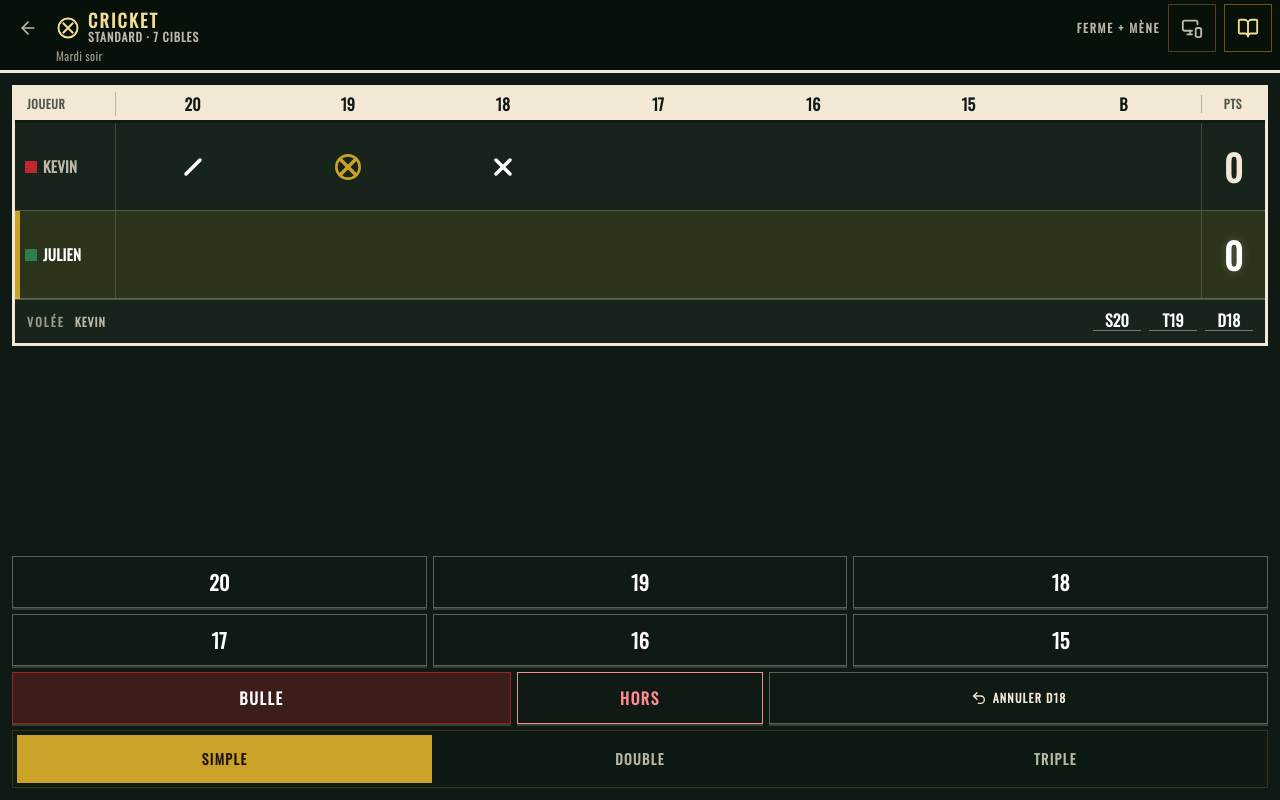
it: Cricket — la ligne VOLÉE : annulation, rejeu, joueur supprimé › annuler la 1ʳᵉ fléchette d’une volée : la ligne redonne la volée du joueur précédent
The width and height of the screenshot is (1280, 800).
Expected: the element named "Volée de Kevin" is shown, top-left (1093, 312), bottom-right (1253, 331)
What coordinates should you click on to do the following:
click the button "17"
I would click on:
 (219, 640)
Its box is top-left (12, 614), bottom-right (427, 666).
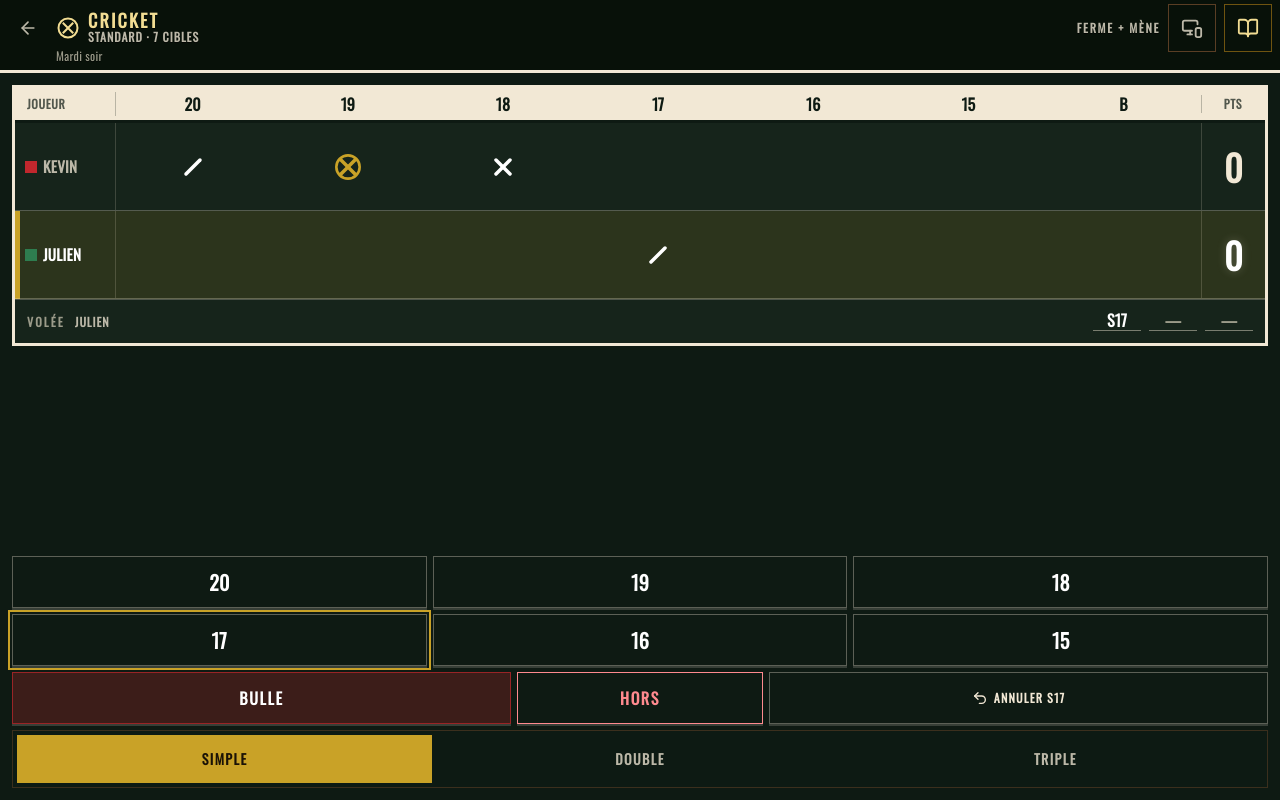
Expected: the element named "Volée de Julien" reads "S17 — —", top-left (1093, 312), bottom-right (1253, 331)
What coordinates should you click on to do the following:
click the button "Annuler S17"
I would click on:
 (1019, 698)
Its box is top-left (769, 672), bottom-right (1268, 724).
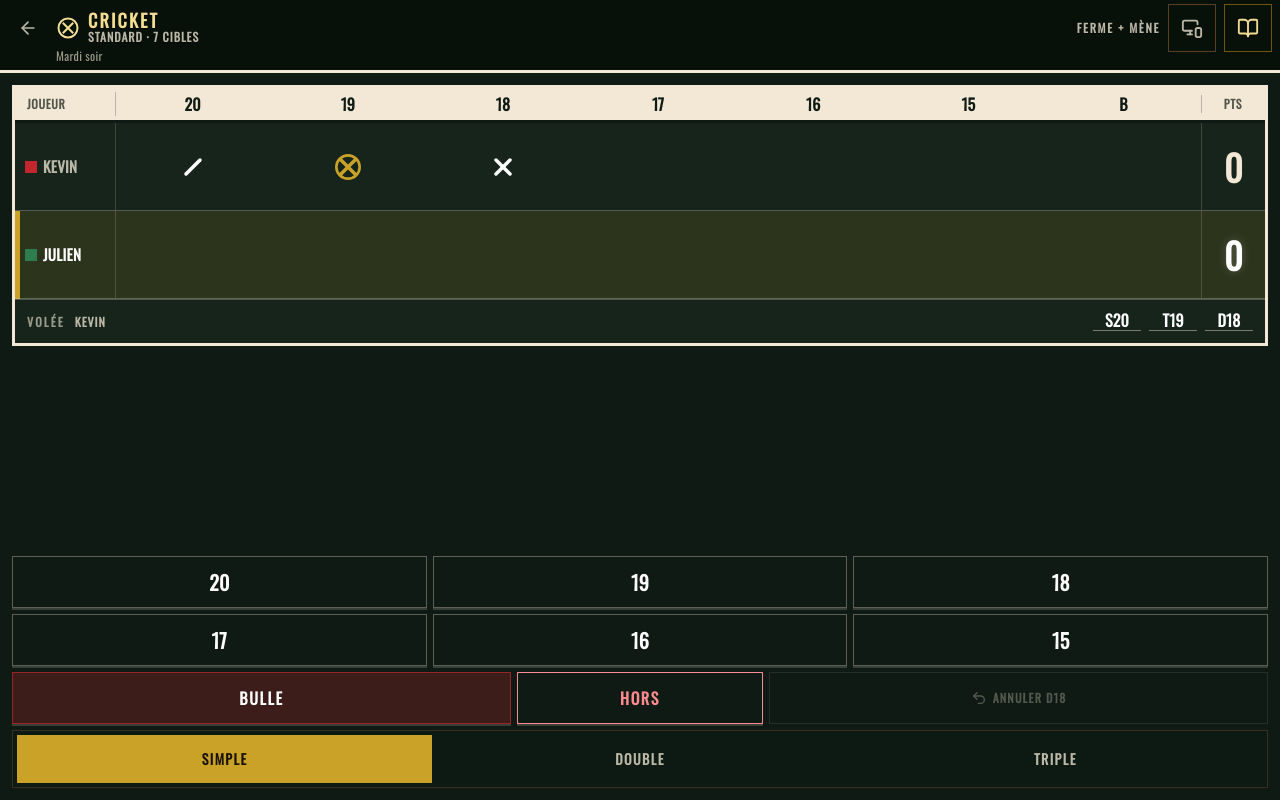
Expected: the element named "Volée de Kevin" reads "S20 T19 D18", top-left (1093, 312), bottom-right (1253, 331)
